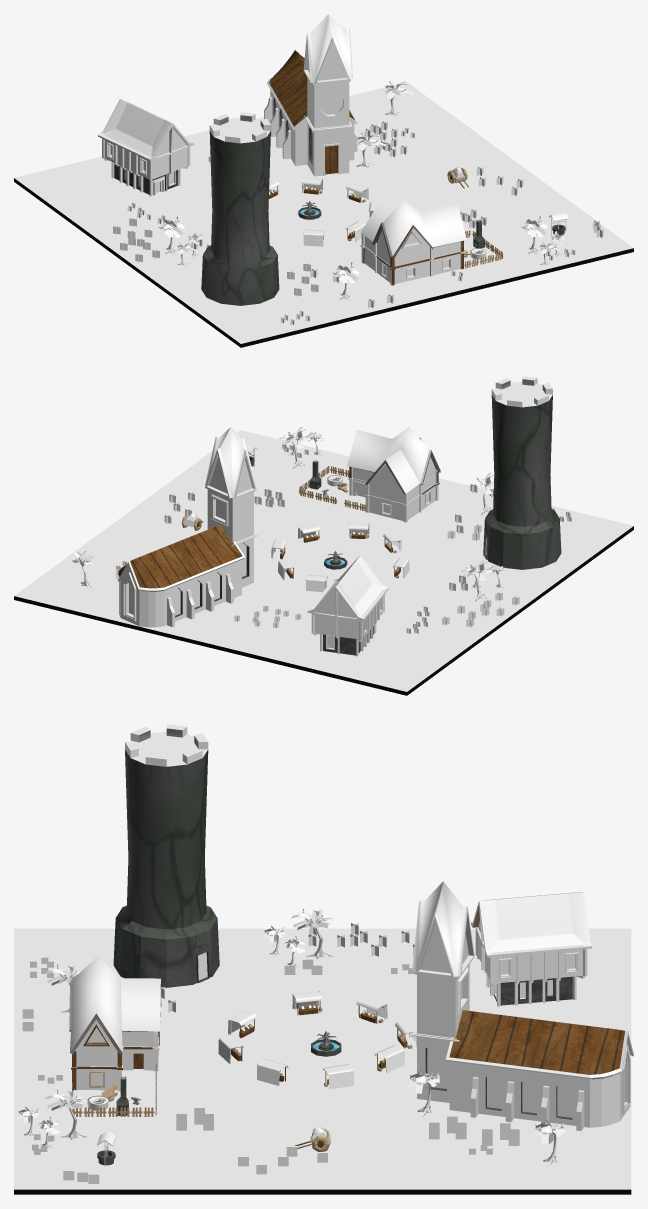
File: town medieval.fbx
3 views of the same model, one above another, from view 1: azimuth 30°, elevation 25°; view 2: azimuth 150°, elevation 25°; view 3: azimuth 270°, elevation 25° (orthographic). The views are drawn at different scales.
Visible parts, largest first — view 1: decorsnormal, nature; view 2: decorsnormal, nature; view 3: decorsnormal, nature.
Part boxes in pixels (x1=…): decorsnormal: x1=14, y1=14, x2=633, y2=347; nature: x1=113, y1=81, x2=603, y2=324; decorsnormal: x1=14, y1=376, x2=633, y2=695; nature: x1=72, y1=427, x2=571, y2=633; decorsnormal: x1=14, y1=724, x2=633, y2=1194; nature: x1=15, y1=908, x2=565, y2=1183.
Bounding box in the file's own units: 101 × 41.63 × 102.
